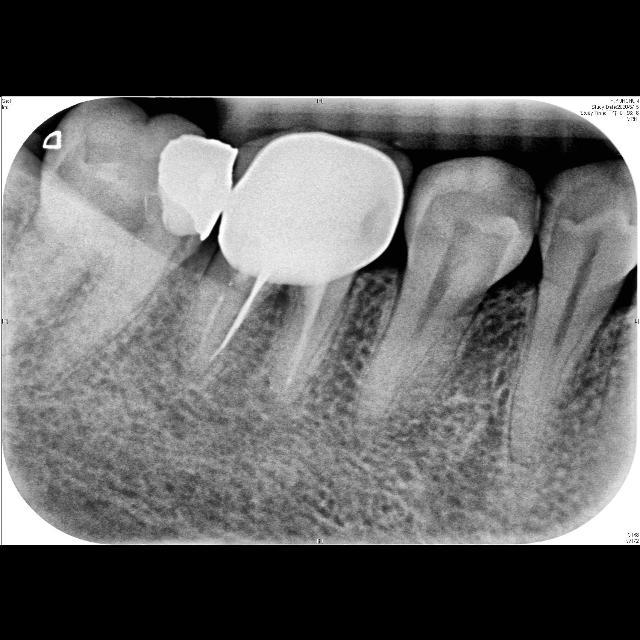teeth: (361, 157, 535, 413), (510, 160, 635, 464)
